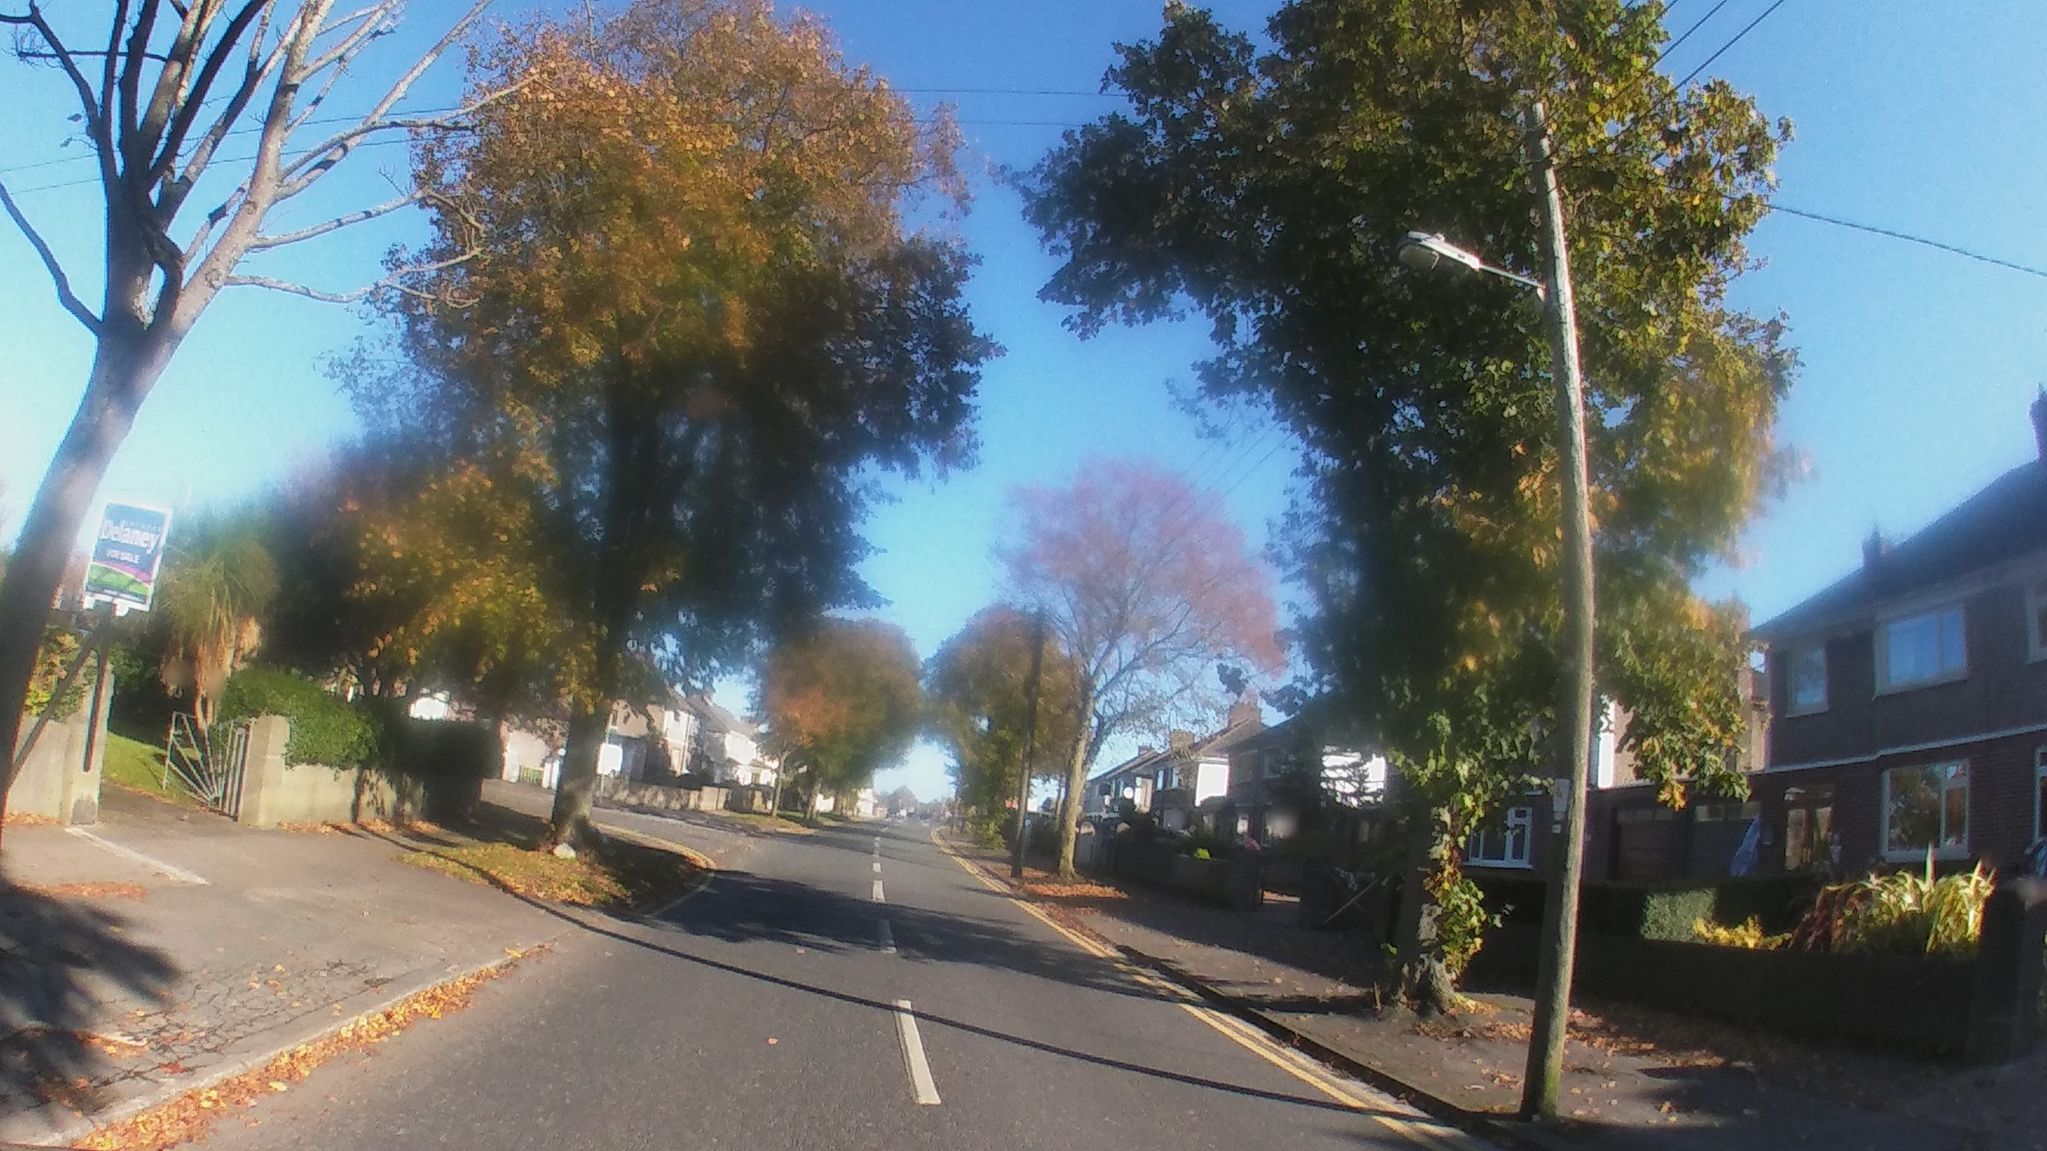property sign: (82, 474, 173, 620)
